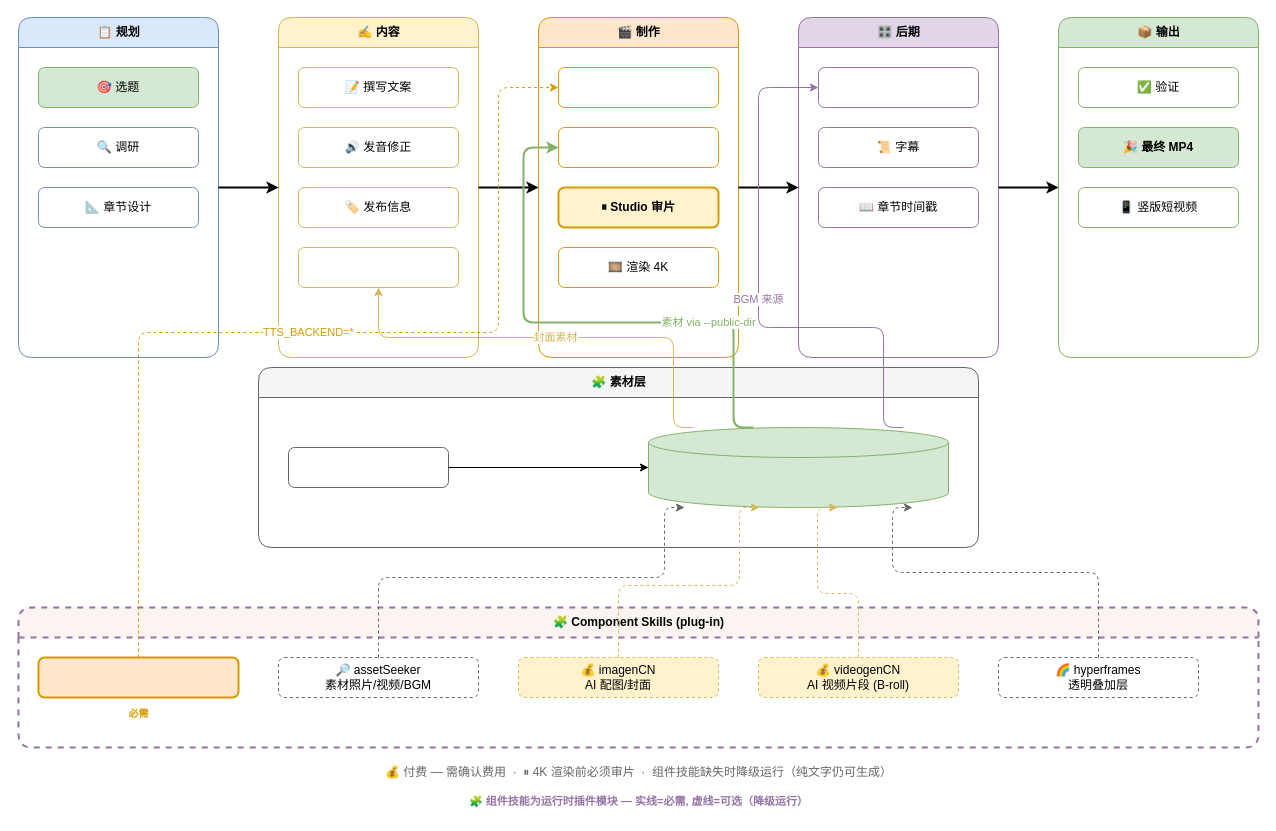
This 1276x831 diagram has some shape labels left out. The centre of each missing label's shape, as x and y in pixels:
"⚛️ Remotion 合成" goes at point 638,147.
"🎙️ TTS 配音" goes at point 638,87.
"🎙️ ttsCN TTS 引擎, 11 个平台" goes at point 138,677.
"🎵 混音 BGM" goes at point 898,87.
"📁 用户文件" goes at point 368,467.
"🖼️ 封面" goes at point 378,267.
"🗂️ assets/manifest.json role · source · license · status" goes at point 798,467.
